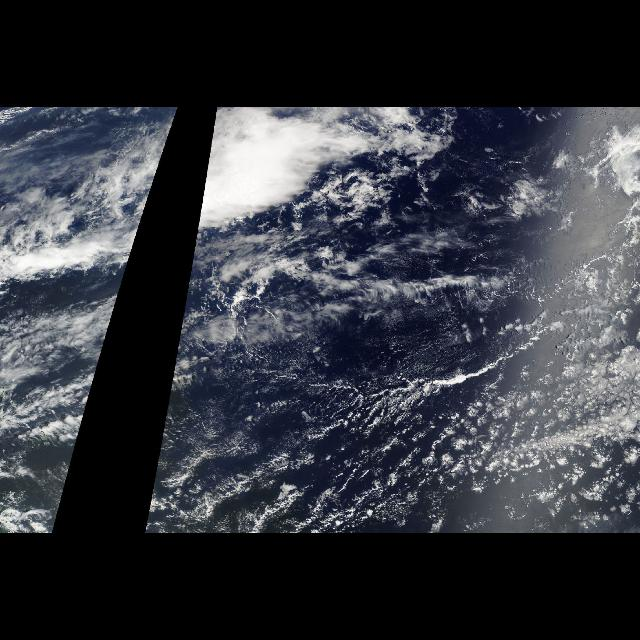Flower: (418, 402, 640, 528)
